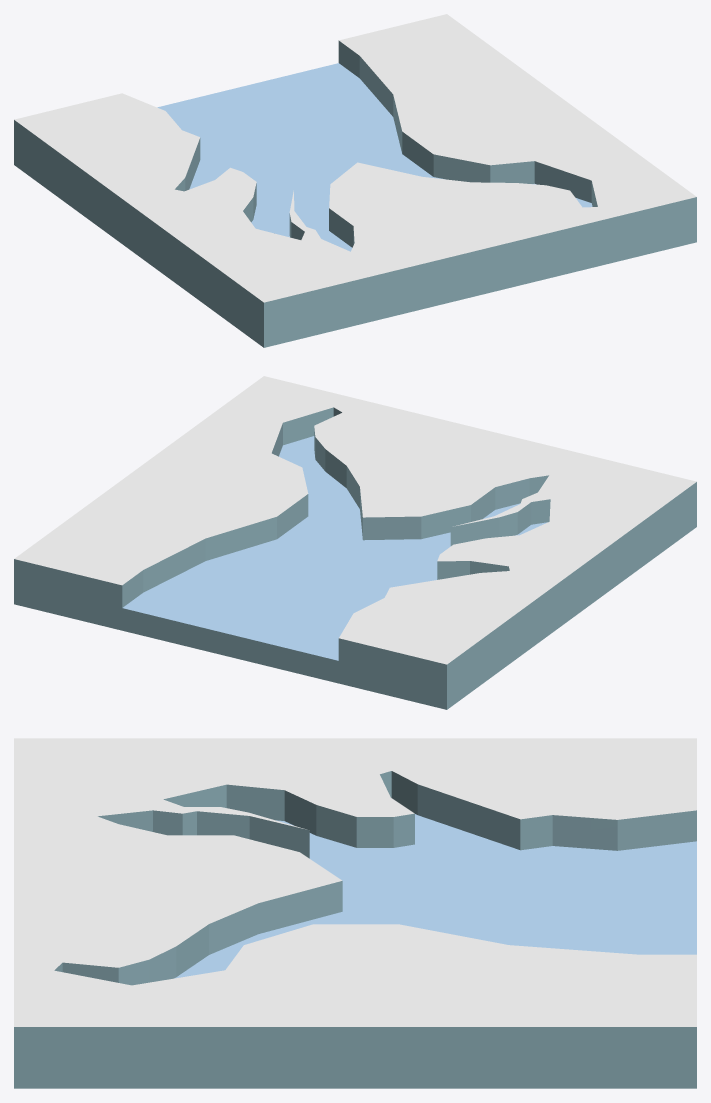
File: Terrain_Modular_Tiles_Snow_Ice_River_End_02.fbx
The picture shows the model from 3 angles, top to bottom: view 1: azimuth 30°, elevation 25°; view 2: azimuth 150°, elevation 25°; view 3: azimuth 270°, elevation 25°; orthographic projection. The views are drawn at different scales.
Parts seen in each view (by area): view 1: Terrain_Modular_Tiles_Snow_Ice_River_End_02; view 2: Terrain_Modular_Tiles_Snow_Ice_River_End_02; view 3: Terrain_Modular_Tiles_Snow_Ice_River_End_02.
Boxes of the visible parts, x1,y1,x2,y2 form: Terrain_Modular_Tiles_Snow_Ice_River_End_02: (14, 14, 696, 347); Terrain_Modular_Tiles_Snow_Ice_River_End_02: (14, 376, 696, 709); Terrain_Modular_Tiles_Snow_Ice_River_End_02: (14, 738, 696, 1088).
Bounding box in the file's own units: 3000 × 300 × 3000.
